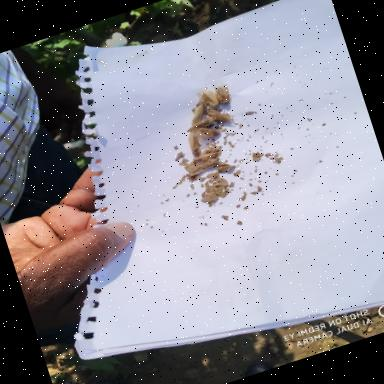abw: (185, 116, 225, 145), (183, 96, 213, 126), (203, 100, 235, 128), (194, 84, 222, 114), (184, 129, 204, 158), (212, 80, 234, 105)
